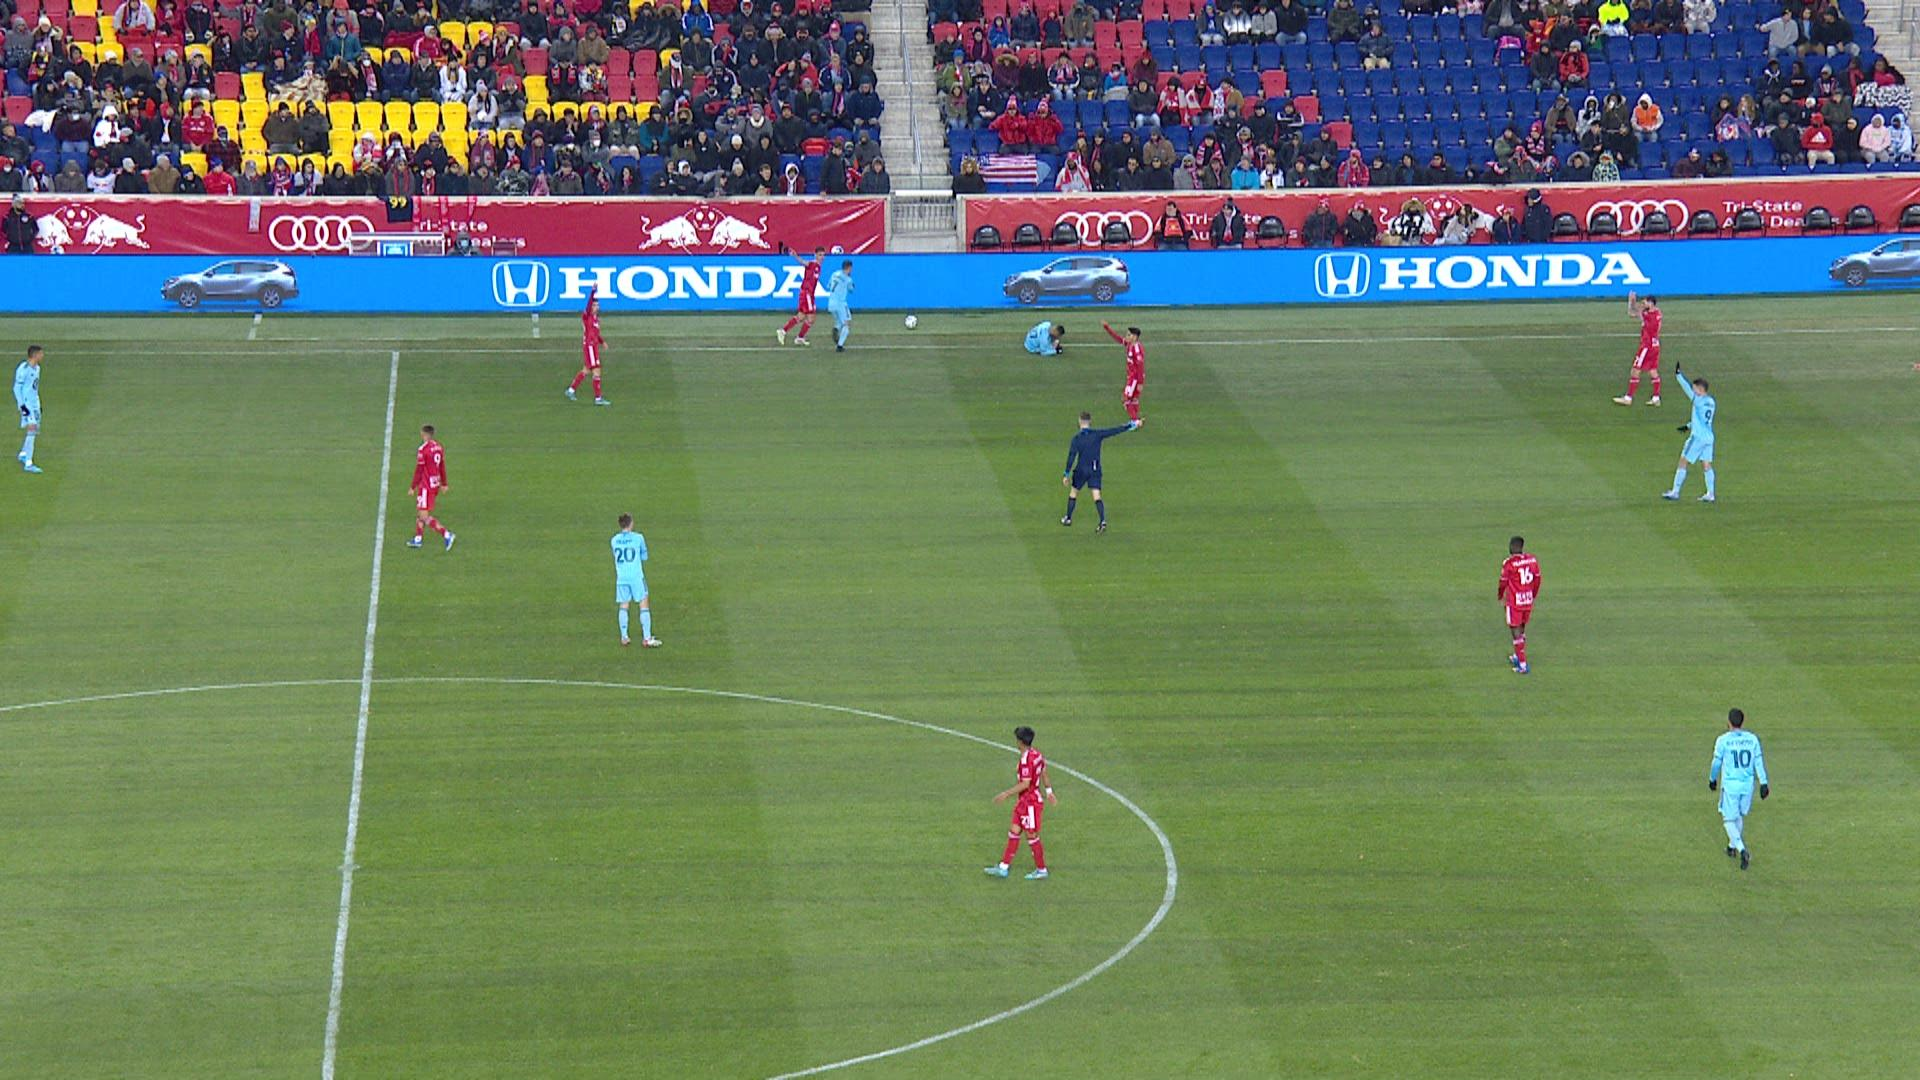football: (905, 314, 919, 330)
